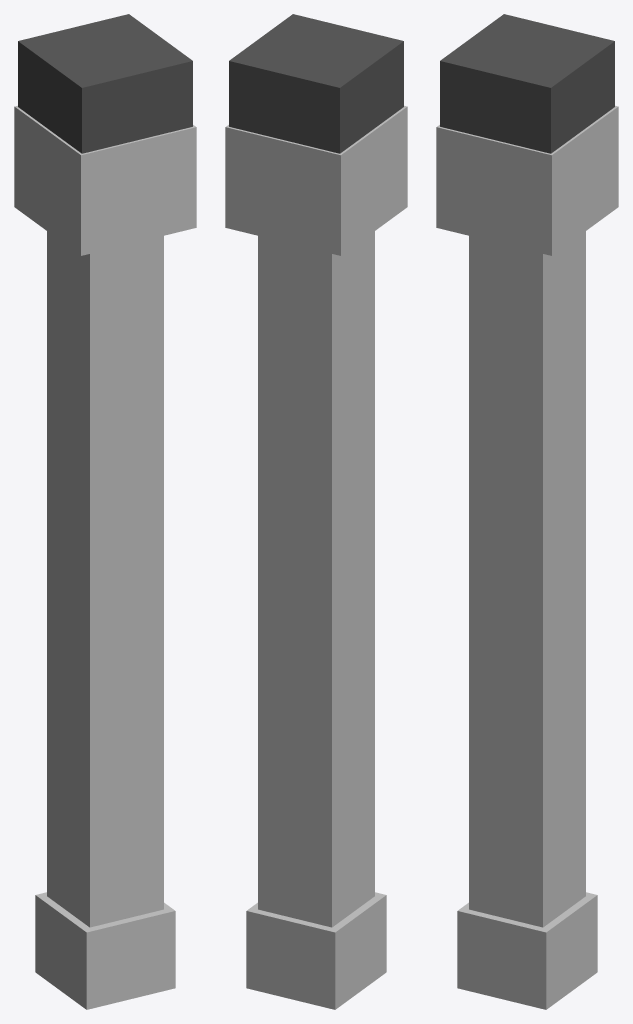
The model's file is wand.obj.
3 views of the same model, side by side, from view 1: azimuth 30°, elevation 25°; view 2: azimuth 150°, elevation 25°; view 3: azimuth 330°, elevation 25° (orthographic).
Parts seen in each view (by area): view 1: rod, crossbar, focus, cap1; view 2: rod, crossbar, focus, cap1; view 3: rod, crossbar, focus, cap1.
Boxes of the visible parts, x1,y1,x2,y2 form: rod: (47, 231, 163, 927); crossbar: (14, 105, 196, 255); focus: (18, 14, 192, 153); cap1: (35, 892, 175, 1009); rod: (258, 231, 374, 927); crossbar: (225, 105, 407, 255); focus: (229, 14, 403, 153); cap1: (246, 892, 386, 1009); rod: (469, 231, 585, 927); crossbar: (436, 105, 618, 255); focus: (440, 14, 614, 153); cap1: (457, 892, 597, 1009).
Size of the model in its own units: 0.195 by 1.5 by 0.195.
